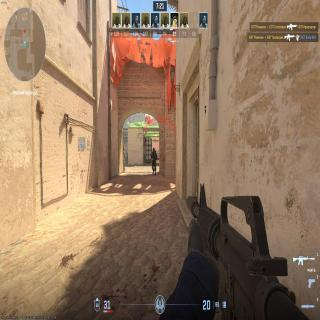CT-Body: (150, 146, 160, 178)
CT-Head: (152, 146, 158, 153)
